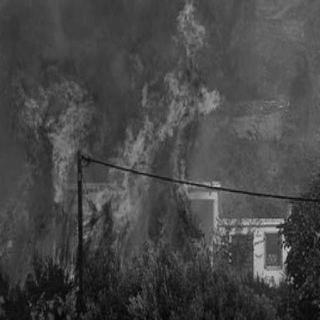Fire: (88, 7, 220, 257), (4, 68, 90, 274)
